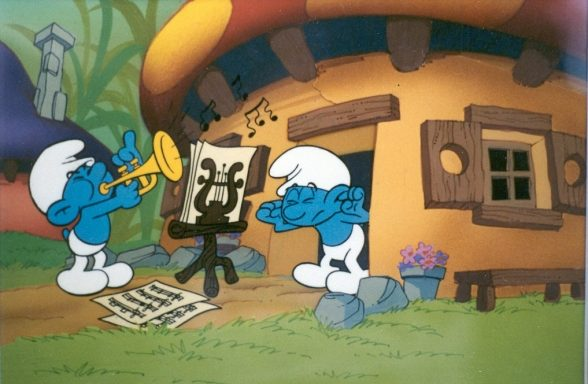smurf: (28, 136, 142, 297), (256, 143, 370, 295)
